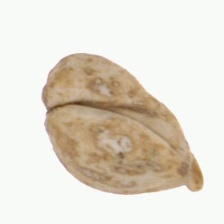L1: (178, 135, 204, 192), (41, 71, 51, 136)
L2: (40, 52, 204, 195)
